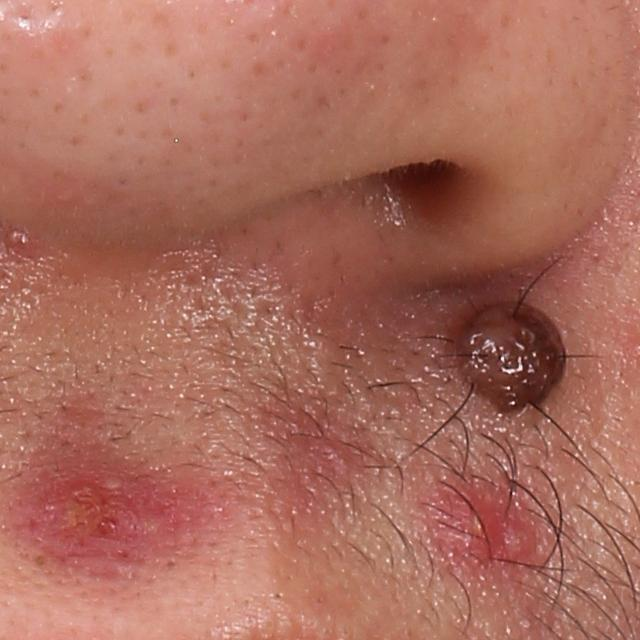nevus: (456, 297, 570, 414)
papule: (414, 486, 549, 579)
pustule: (35, 466, 168, 553)
